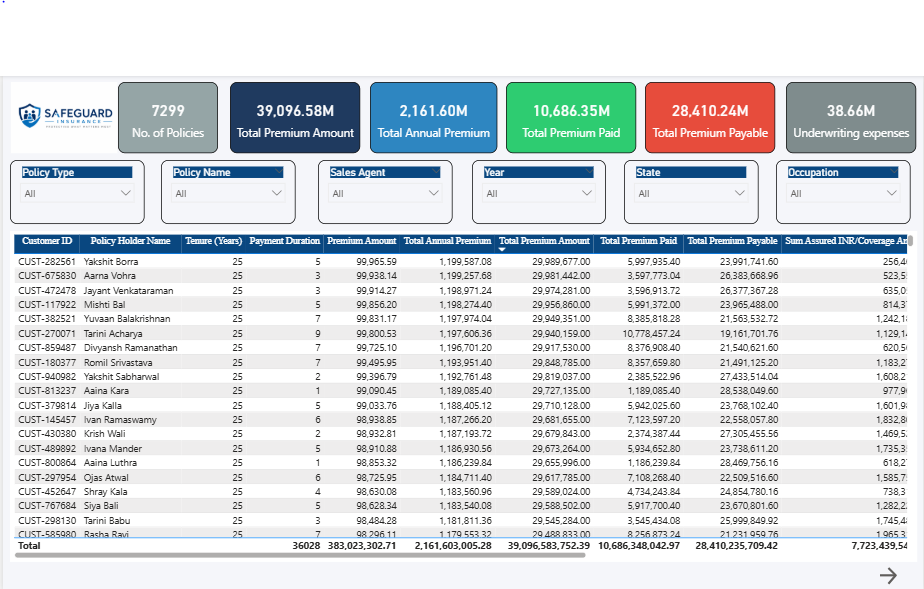

This screenshot's page, from the dashboard's own definition file:
{"tool":"powerbi","page":{"name":"Summary","canvas":[1280,720],"ordinal":0},"visuals":[{"type":"card","fields":{"Values":["CountNonNull(DM Customer_Detail_Table.Customer ID)"]},"box":[159.8,9.7,139,98.7],"z":0},{"type":"card","fields":{"Values":["Sum(FCT Insurance_Policy_Table.Total Annual Premium)"]},"box":[510,10,177.1,98.6],"z":1000},{"type":"card","fields":{"Values":["Sum(FCT Insurance_Policy_Table.Total Premium Amount)"]},"box":[315.7,10,181.4,98.6],"z":2000},{"type":"card","fields":{"Values":["Sum(FCT Insurance_Policy_Table.Total Premium Paid)"]},"box":[698.6,10,181.4,98.6],"z":3000},{"type":"card","fields":{"Values":["Sum(FCT Insurance_Policy_Table.Total Premium Payable)"]},"box":[892.9,10,181.4,98.6],"z":4000},{"type":"card","fields":{"Values":["Sum(FCT Insurance_Policy_Table.Underwriting expenses)"]},"box":[1088.6,10,181.4,98.6],"z":5000},{"type":"image","box":[0,10,170,98.6],"z":6000},{"type":"tableEx","fields":{"Values":["DM Customer_Detail_Table.Customer ID","DM Customer_Detail_Table.Policy Holder Name","FCT Insurance_Policy_Table.Tenure (Years)","Sum(FCT Insurance_Policy_Table.Premium Payment Duration)","Sum(FCT Insurance_Policy_Table.Premium Amount)","Sum(FCT Insurance_Policy_Table.Total Annual Premium)","Sum(FCT Insurance_Policy_Table.Total Premium Amount)","Sum(FCT Insurance_Policy_Table.Total Premium Paid)","Sum(FCT Insurance_Policy_Table.Total Premium Payable)","Sum(FCT Insurance_Policy_Table.Sum Assured INR/Coverage Amount)","Sum(FCT Insurance_Policy_Table.Maturity Amount)","Sum(FCT Insurance_Policy_Table.Profit / Gain)"]},"box":[9.7,216.8,1260.7,460.1],"z":7000},{"type":"slicer","fields":{"Values":["DM Policy_Type.Policy Type"]},"box":[10,118.6,187.1,88.6],"z":8000},{"type":"slicer","fields":{"Values":["DM Policy_Protection_Plan.Policy Name"]},"box":[220,118.6,187.1,88.6],"z":9000},{"type":"slicer","fields":{"Values":["DM Insurance_Agent_Table.Sales Agent"]},"box":[437.1,118.6,187.1,88.6],"z":10000},{"type":"slicer","fields":{"Values":["FCT Insurance_Policy_Table.Date of Purchase.Variation.Date Hierarchy.Year"]},"box":[651.9,118.1,186.3,89],"z":11000},{"type":"slicer","fields":{"Values":["DM Customer_Detail_Table.State"]},"box":[862.9,118.6,187.1,88.6],"z":12000},{"type":"slicer","fields":{"Values":["DM Customer_Detail_Table.Occupation"]},"box":[1074.3,118.6,187.1,88.6],"z":13000},{"type":"actionButton","box":[1213.4,679.7,55,33],"z":14000}]}

Visuals, with their boxes on the page's 1280x720 design canvas (x1, y1, x2, y2). These are canvas units, not pixel positions in the 924x589 screenshot, which may show the page scaled, cropped or inside an application window:
card - CountNonNull(DM Customer_Detail_Table.Customer ID): bbox=(160, 10, 299, 108)
card - Sum(FCT Insurance_Policy_Table.Total Annual Premium): bbox=(510, 10, 687, 109)
card - Sum(FCT Insurance_Policy_Table.Total Premium Amount): bbox=(316, 10, 497, 109)
card - Sum(FCT Insurance_Policy_Table.Total Premium Paid): bbox=(699, 10, 880, 109)
card - Sum(FCT Insurance_Policy_Table.Total Premium Payable): bbox=(893, 10, 1074, 109)
card - Sum(FCT Insurance_Policy_Table.Underwriting expenses): bbox=(1089, 10, 1270, 109)
image: bbox=(0, 10, 170, 109)
tableEx - DM Customer_Detail_Table.Customer ID x DM Customer_Detail_Table.Policy Holder Name: bbox=(10, 217, 1270, 677)
slicer - DM Policy_Type.Policy Type: bbox=(10, 119, 197, 207)
slicer - DM Policy_Protection_Plan.Policy Name: bbox=(220, 119, 407, 207)
slicer - DM Insurance_Agent_Table.Sales Agent: bbox=(437, 119, 624, 207)
slicer - FCT Insurance_Policy_Table.Date of Purchase.Variation.Date Hierarchy.Year: bbox=(652, 118, 838, 207)
slicer - DM Customer_Detail_Table.State: bbox=(863, 119, 1050, 207)
slicer - DM Customer_Detail_Table.Occupation: bbox=(1074, 119, 1261, 207)
actionButton: bbox=(1213, 680, 1268, 713)
